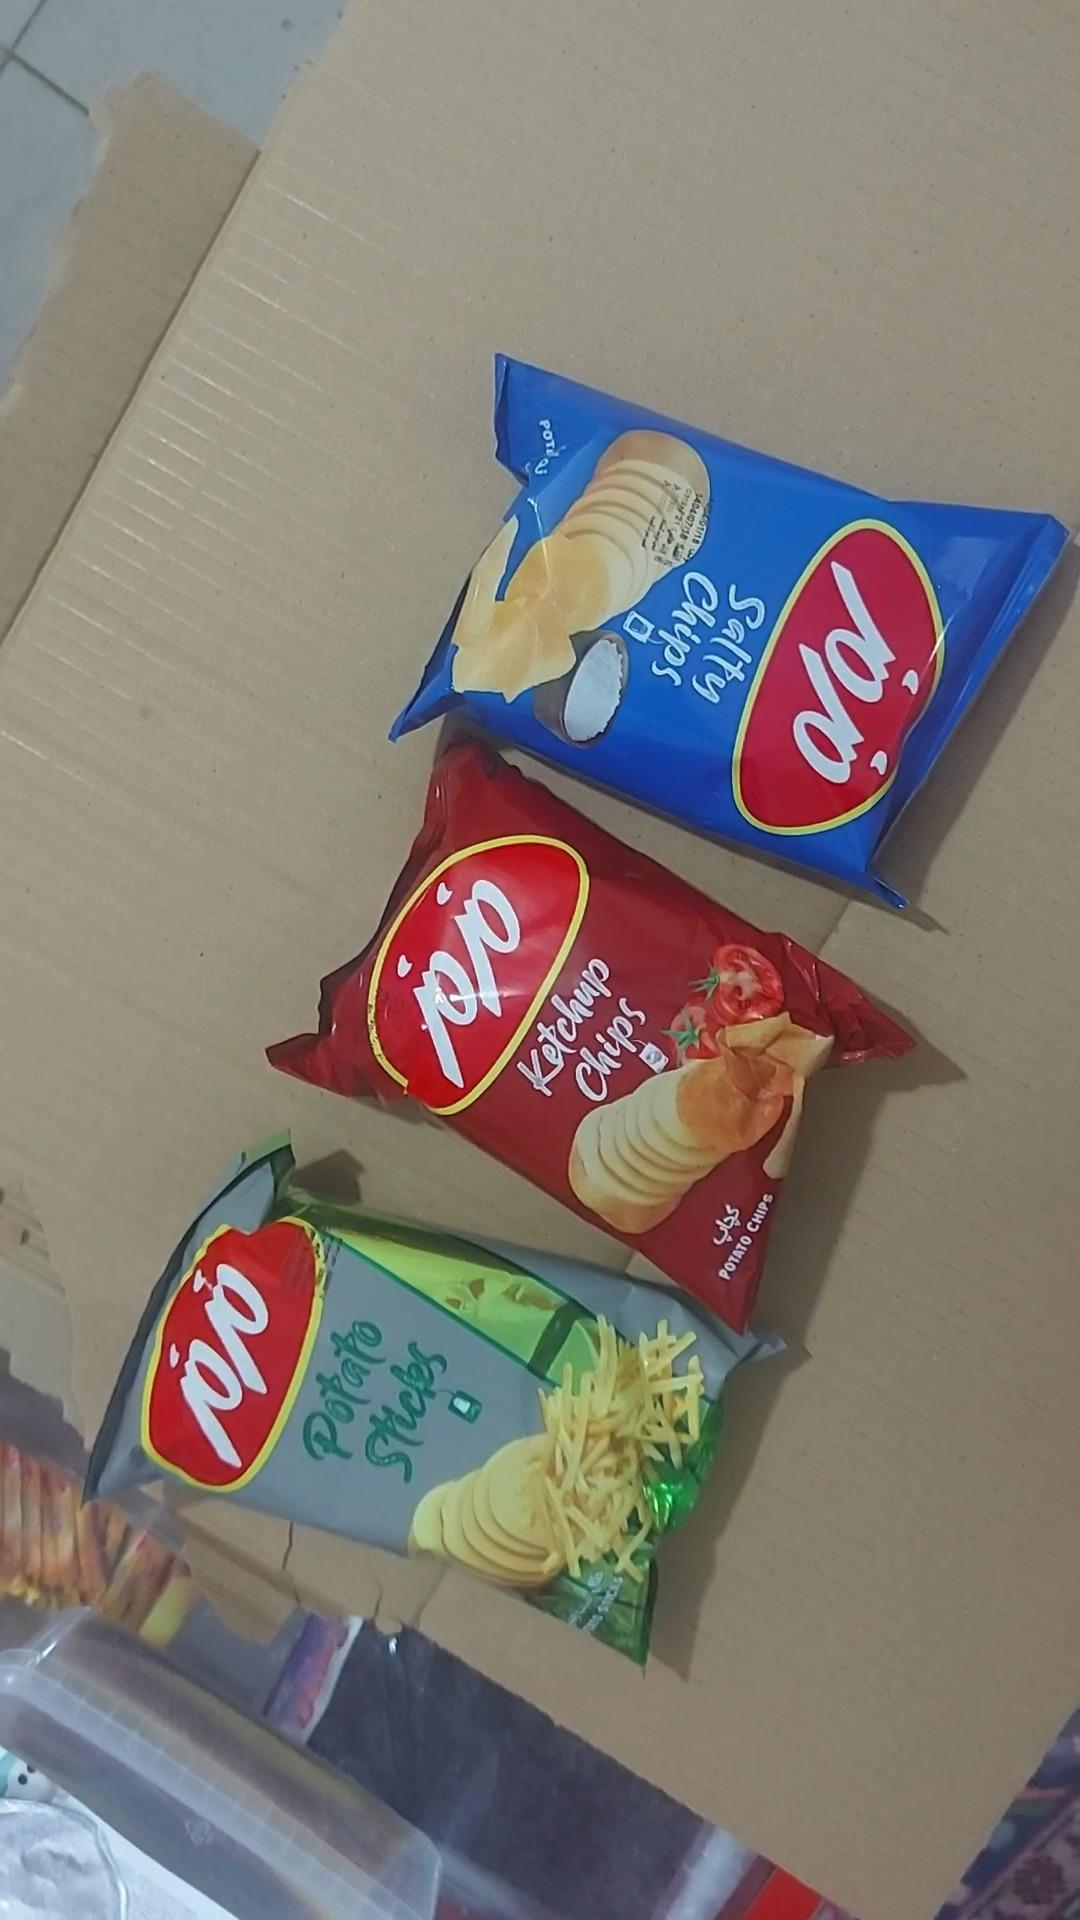Maz Maz ketchup chips: (262, 741, 916, 1336)
Maz Maz potato sticks: (83, 1127, 790, 1668)
Maz Maz salty chips: (390, 355, 1073, 915)
